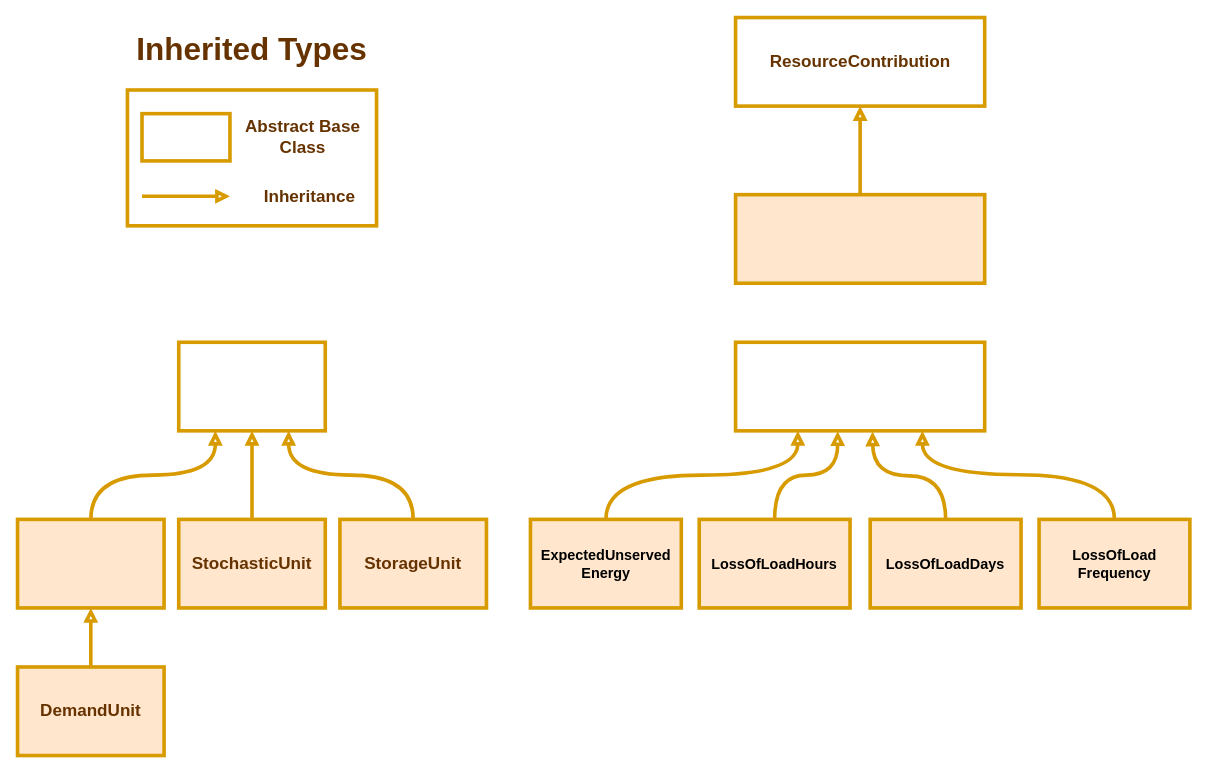
This 1207x772 diagram has some shape labels left out. The shapes that lost their labels are listed below. From the top down, each one's centre as x and y in pixels, then its label:
At point (859, 238): "EffectiveLoadCarrying Capability".
At point (251, 386): "EnergyUnit".
At point (859, 386): "ResourceAdequacyMetric".
At point (90, 563): "StaticUnit".
